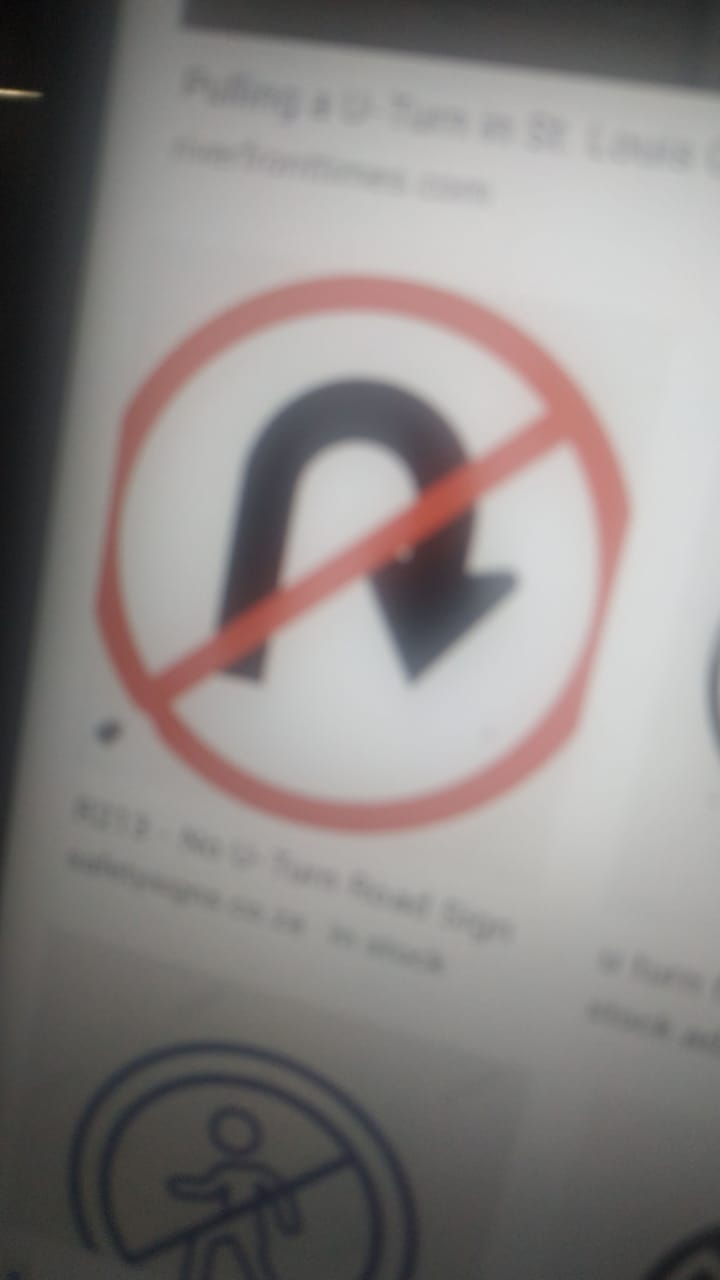NO U-TURN: (1, 240, 689, 857)
